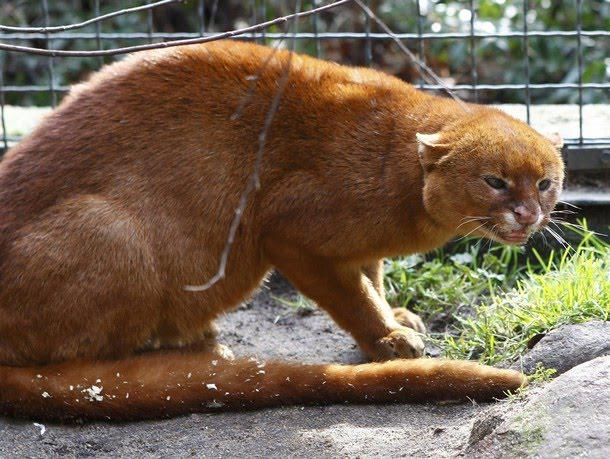Jaguarundi: (5, 39, 571, 431)
